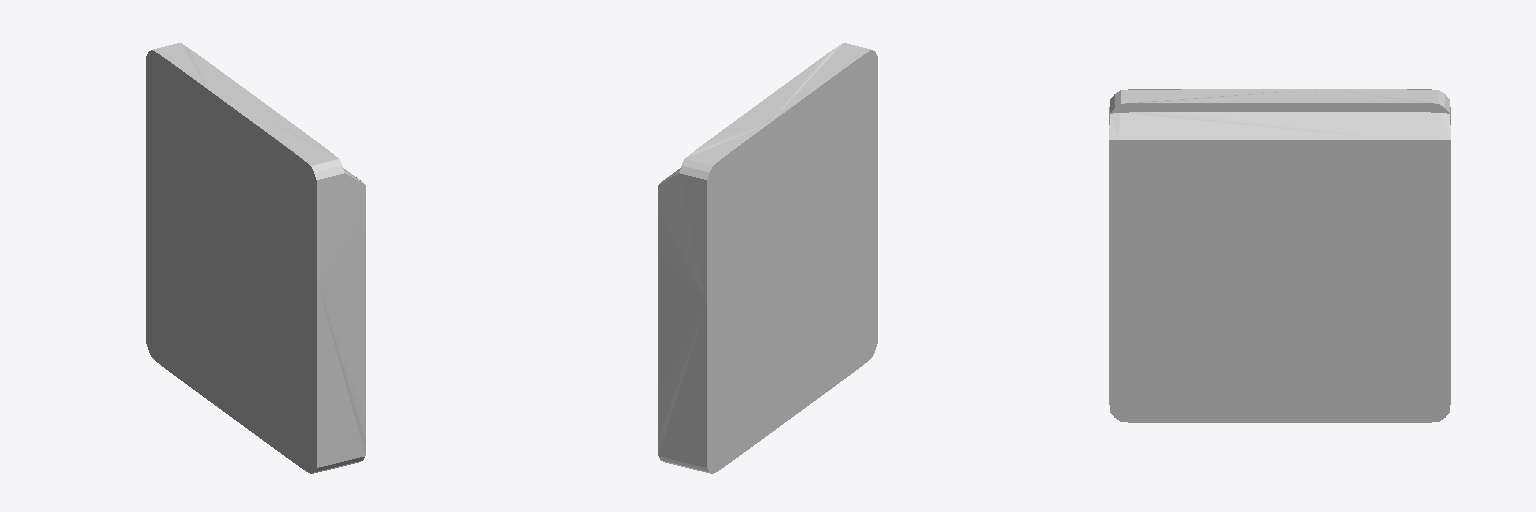
Rendered from Video3D.obj.
3 renders of one model, left to right at view 1: azimuth 30°, elevation 25°; view 2: azimuth 150°, elevation 25°; view 3: azimuth 270°, elevation 25°, orthographic.
Visible parts, largest first — view 1: Cube; view 2: Cube; view 3: Cube.
Part boxes in pixels (x1,y1,x2,y2): Cube: (146,43,365,473); Cube: (658,43,877,473); Cube: (1109,89,1450,422).
Size of the model in its own units: 0.2984 by 1.8 by 1.8.